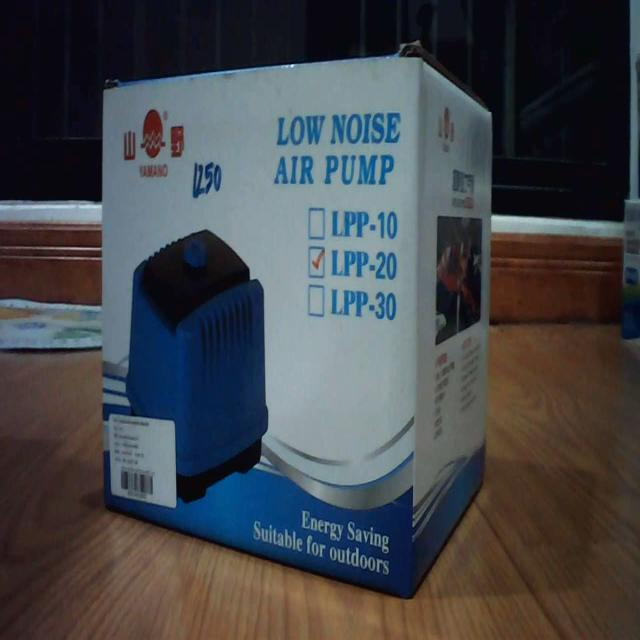YAMANO_LPP_20: (90, 36, 504, 614)
